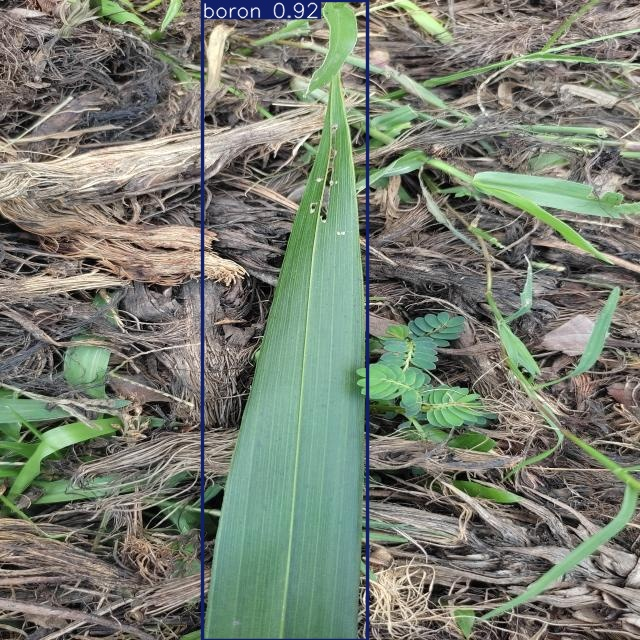nitrogen: (203, 0, 368, 640)
